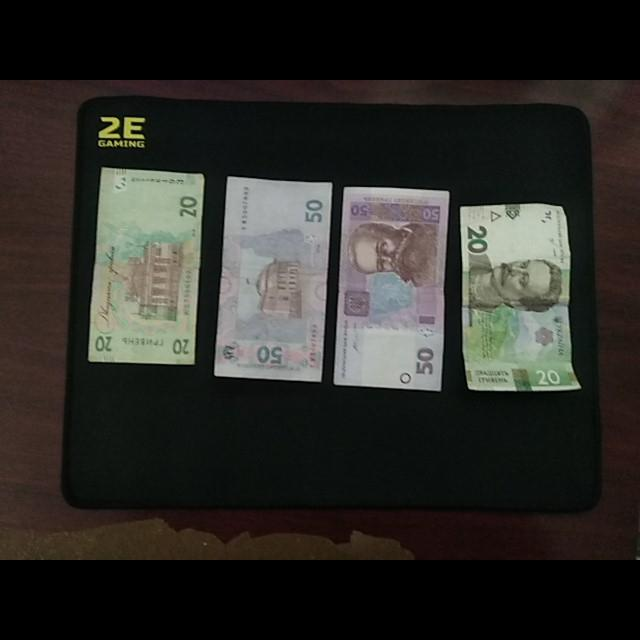20uah: (88, 169, 206, 364), (461, 203, 581, 390)
50uah: (214, 177, 333, 381), (334, 186, 450, 391)
